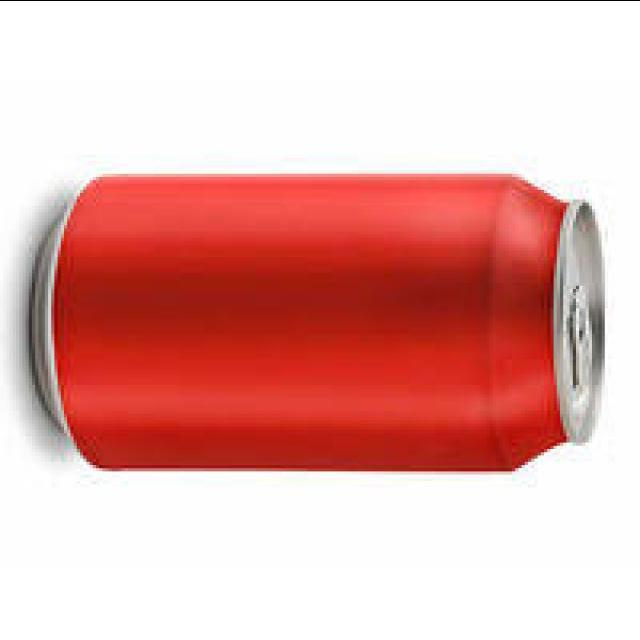can: (31, 176, 598, 474)
